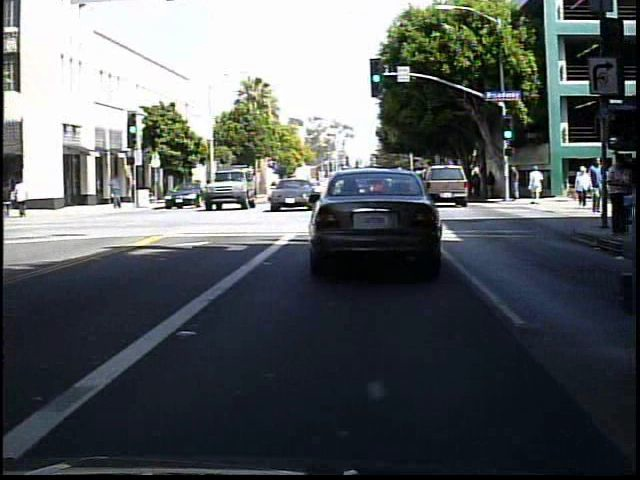person: (603, 153, 627, 235), (589, 153, 607, 215), (505, 160, 526, 206), (572, 165, 591, 213), (526, 165, 544, 206), (17, 178, 34, 219), (108, 174, 125, 212), (5, 182, 16, 218), (471, 172, 484, 202), (485, 169, 497, 200)
